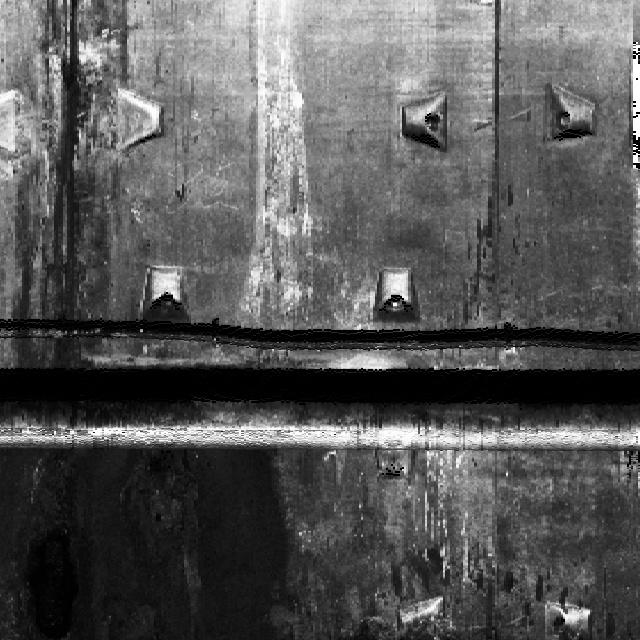leakage: (4, 439, 298, 639), (0, 0, 134, 366)
